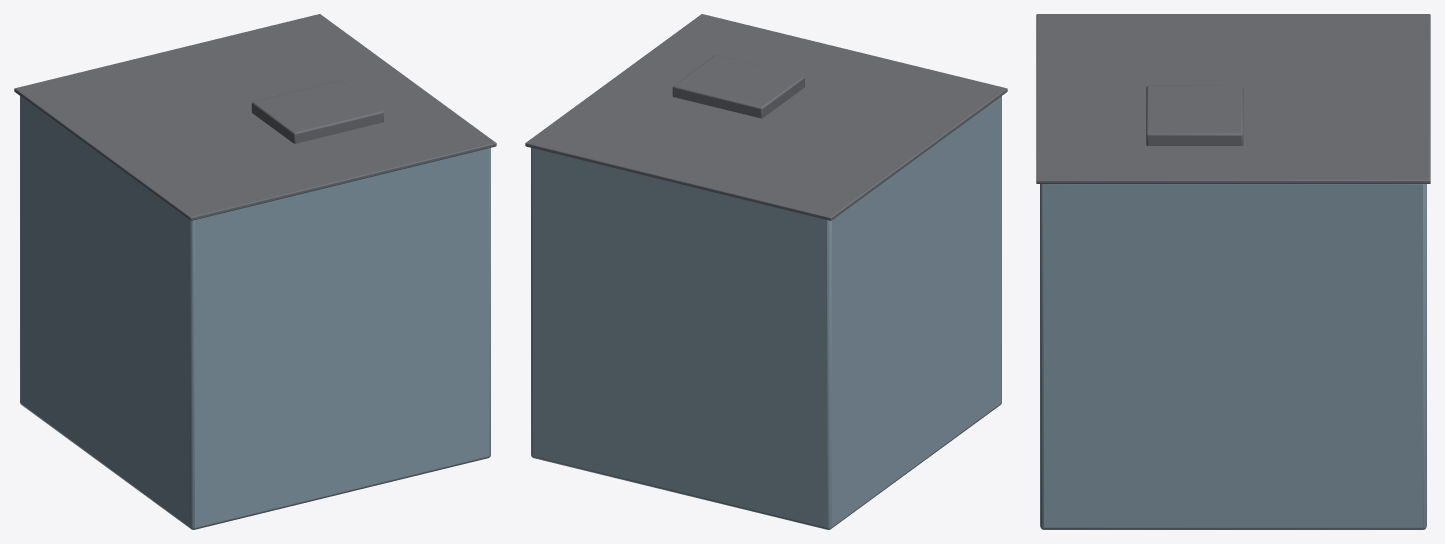
Rendered from tower_blue.fbx.
3 views of the same model, side by side, from view 1: azimuth 30°, elevation 25°; view 2: azimuth 150°, elevation 25°; view 3: azimuth 270°, elevation 25° (orthographic). The views are drawn at different scales.
Visible parts, largest first — view 1: tower_blue; view 2: tower_blue; view 3: tower_blue.
Boxes of the visible parts, box(x1,y1,x2,y2) form: tower_blue: box(14, 14, 496, 529); tower_blue: box(525, 14, 1007, 529); tower_blue: box(1036, 14, 1430, 529).
Size of the model in its own units: 1.02 by 1.04 by 1.02.
